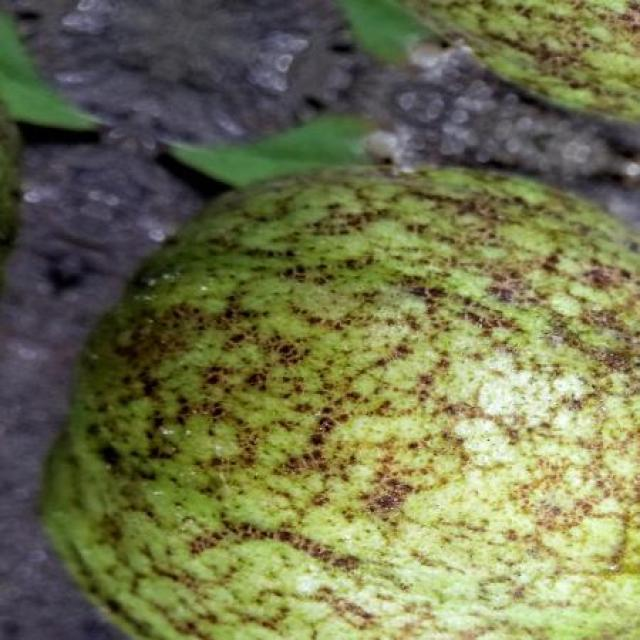Scab: (44, 169, 640, 640)
